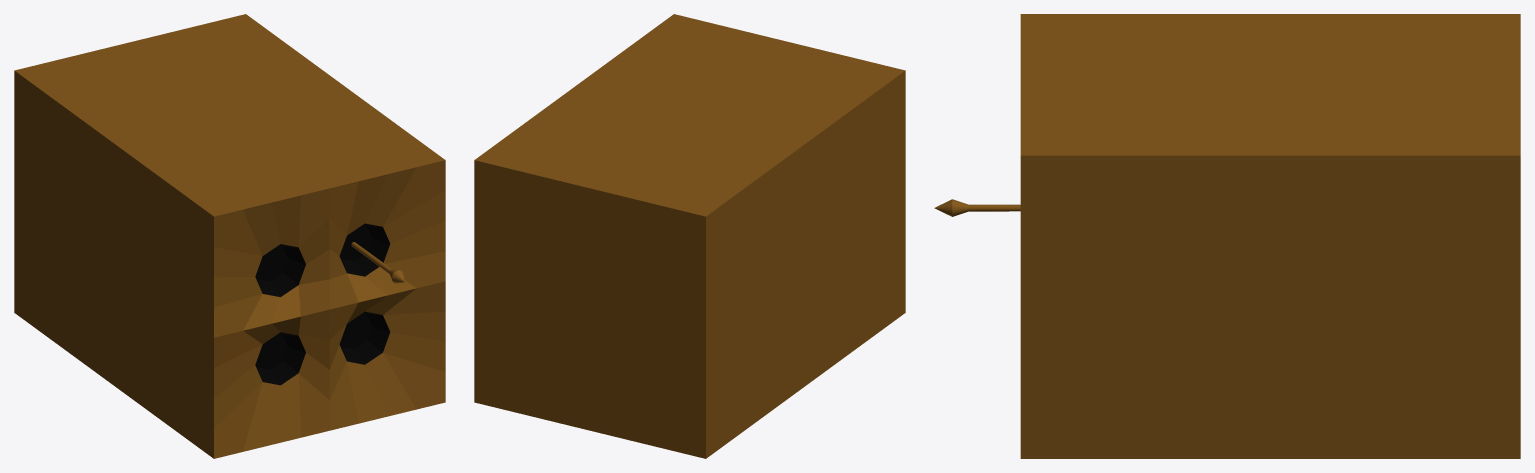
The model's file is Arrow.gltf.
The picture shows the model from 3 angles, left to right: view 1: azimuth 30°, elevation 25°; view 2: azimuth 150°, elevation 25°; view 3: azimuth 270°, elevation 25°; orthographic projection. The views are drawn at different scales.
Parts seen in each view (by area): view 1: Base, Arrow.003; view 2: Base; view 3: Base, Arrow.003.
Boxes of the visible parts, x1,y1,x2,y2 form: Base: (14, 14, 445, 458); Arrow.003: (351, 242, 405, 283); Base: (474, 14, 905, 458); Base: (1020, 14, 1520, 458); Arrow.003: (934, 199, 1020, 216).
Size of the model in its own units: 2 by 2 by 3.5.
